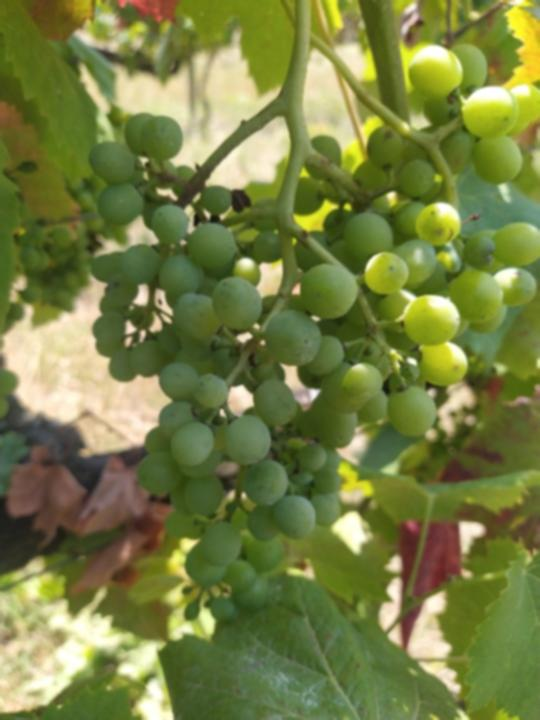grape: (83, 41, 537, 622)
